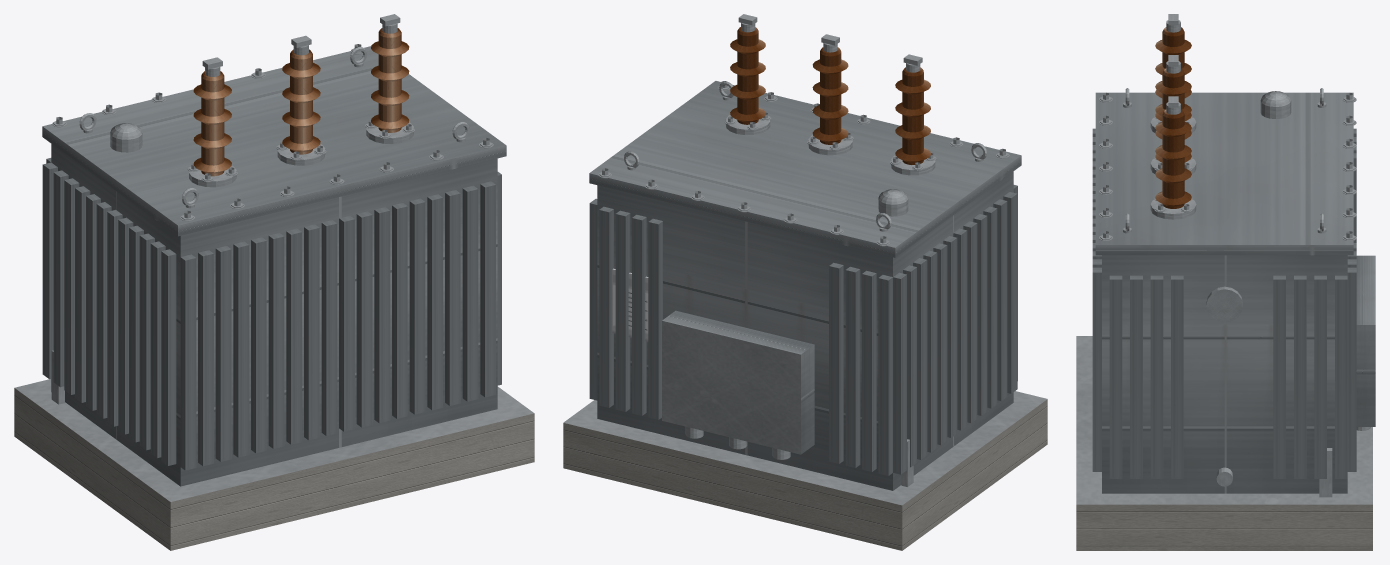
File: tx_machine.obj
3 views of the same model, side by side, from view 1: azimuth 30°, elevation 25°; view 2: azimuth 150°, elevation 25°; view 3: azimuth 270°, elevation 25° (orthographic). The views are drawn at different scales.
Parts seen in each view (by area): view 1: tank, cover, plinth, bushing_3, bushing_1, bushing_2, flange_2, flange_1, flange_3, fittings; view 2: tank, cover, plinth, cablebox, bushing_2, bushing_1, bushing_3, flange_1, flange_2, flange_3, nameplate, fittings; view 3: tank, cover, plinth, cablebox, bushing_3, fittings, bushing_2, bushing_1, flange_3, flange_2, flange_1, earth.
Part boxes in pixels (left/top/right/bottom): tank: left=42, top=144, right=501, bottom=486; cover: left=42, top=44, right=506, bottom=236; plinth: left=14, top=379, right=534, bottom=550; bushing_3: left=371, top=28, right=409, bottom=132; bushing_1: left=193, top=71, right=231, bottom=176; bushing_2: left=282, top=49, right=320, bottom=154; flange_2: left=276, top=35, right=326, bottom=165; flange_1: left=187, top=57, right=237, bottom=187; flange_3: left=365, top=14, right=414, bottom=143; fittings: left=110, top=123, right=142, bottom=152; tank: left=589, top=171, right=1017, bottom=490; cover: left=589, top=81, right=1021, bottom=257; plinth: left=563, top=391, right=1047, bottom=550; cablebox: left=662, top=310, right=814, bottom=459; bushing_2: left=812, top=47, right=848, bottom=144; bushing_1: left=895, top=67, right=930, bottom=164; bushing_3: left=730, top=27, right=765, bottom=124; flange_1: left=890, top=54, right=936, bottom=175; flange_2: left=807, top=34, right=853, bottom=155; flange_3: left=724, top=14, right=771, bottom=134; nameplate: left=612, top=268, right=648, bottom=341; fittings: left=878, top=189, right=908, bottom=216; tank: left=1092, top=128, right=1356, bottom=493; cover: left=1095, top=88, right=1356, bottom=255; plinth: left=1076, top=336, right=1372, bottom=550; cablebox: left=1356, top=255, right=1375, bottom=430; bushing_3: left=1155, top=109, right=1191, bottom=208; fittings: left=1206, top=91, right=1291, bottom=486; bushing_2: left=1155, top=68, right=1191, bottom=162; bushing_1: left=1155, top=27, right=1191, bottom=121; flange_3: left=1150, top=96, right=1196, bottom=219; flange_2: left=1150, top=55, right=1196, bottom=173; flange_1: left=1150, top=14, right=1196, bottom=132; earth: left=1319, top=448, right=1332, bottom=497.
Size of the model in its own units: 0.78 by 0.88 by 0.585.
